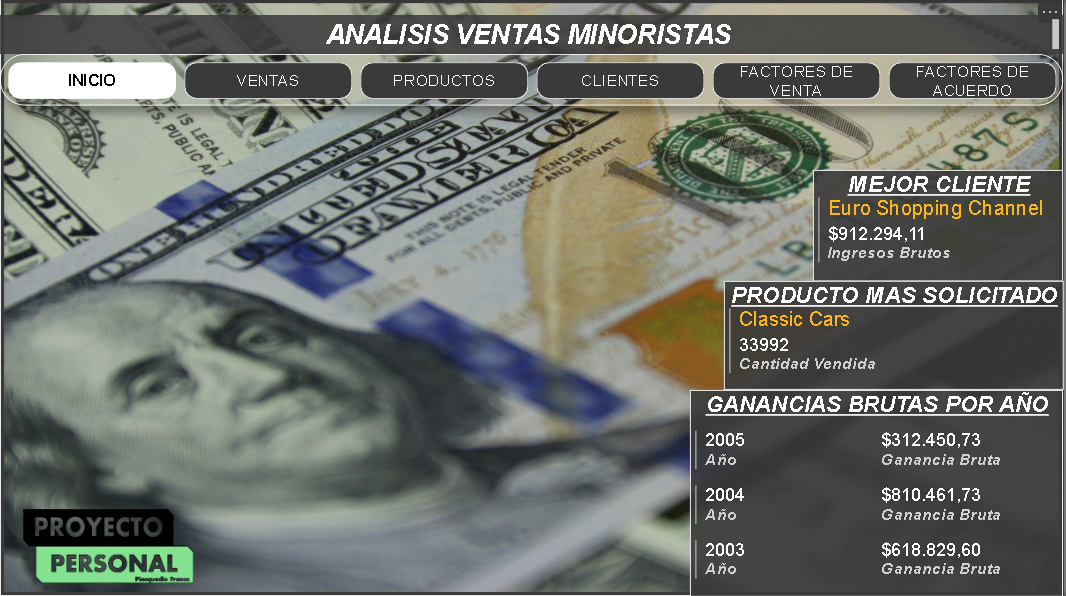

This screenshot's page, from the dashboard's own definition file:
{"tool":"powerbi","page":{"name":"INICIO","canvas":[1280,720],"ordinal":0},"visuals":[{"type":"image","box":[0,0,1280,719.4],"z":0},{"type":"textbox","box":[0,19.4,1280,47],"z":1000},{"type":"pageNavigator","box":[0,66.3,1280,62.1],"z":2000},{"type":"image","box":[0,609.7,261.5,99.1],"z":3000},{"type":"multiRowCard","title":"PRODUCTO MAS SOLICITADO","fields":{"Values":["PRODUCTS.ProductLine","_MEDIDAS.CANTIDAD_PRODUCTOS"]},"box":[871.2,340,408.8,130.8],"z":4000},{"type":"multiRowCard","title":"MEJOR CLIENTE","fields":{"Values":["CUSTOMERS.CustomerName","_MEDIDAS.TOTAL_VENTAS"]},"box":[978.6,206.5,301.4,133.5],"z":5000},{"type":"multiRowCard","title":"GANANCIAS BRUTAS POR AÑO","fields":{"Values":["CALENDARIO.Date.Variación.Jerarquía de fechas.Año","_MEDIDAS.INGRESOS"]},"box":[831.3,470.7,448.7,249.1],"z":6000}]}

Visuals, with their boxes in screenshot pixels (x1, y1, x2, y2), scaled from the page's 1280x720 canvas onto the 1066x596 screenshot:
image: [x1=0, y1=0, x2=1065, y2=595]
textbox: [x1=0, y1=16, x2=1065, y2=55]
pageNavigator: [x1=0, y1=55, x2=1065, y2=106]
image: [x1=0, y1=505, x2=218, y2=587]
"PRODUCTO MAS SOLICITADO" multiRowCard: [x1=726, y1=281, x2=1065, y2=390]
"MEJOR CLIENTE" multiRowCard: [x1=815, y1=171, x2=1065, y2=281]
"GANANCIAS BRUTAS POR AÑO" multiRowCard: [x1=692, y1=390, x2=1065, y2=595]
